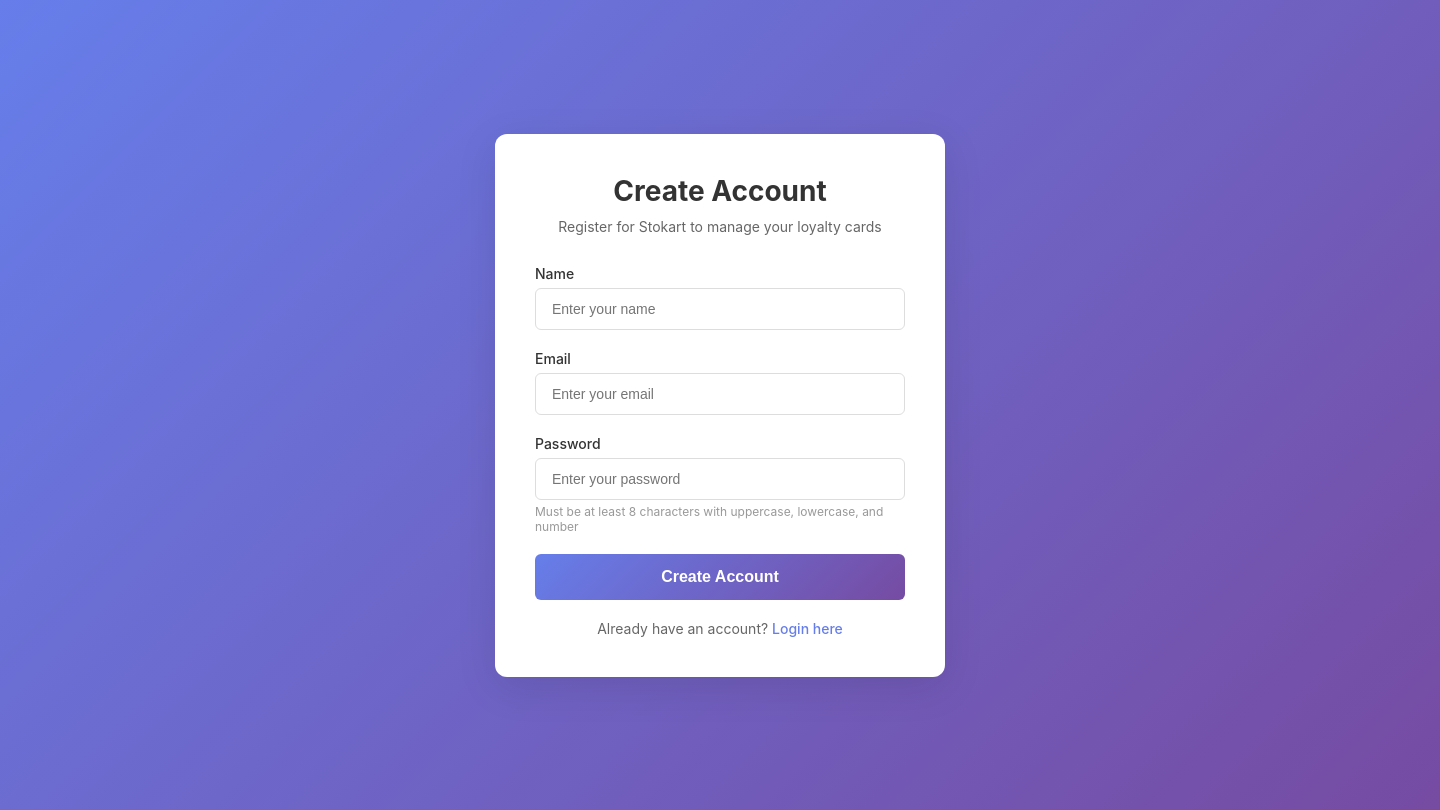
Test: RegisterView › Form Submission › should display API error for duplicate email (409)
Type "John Doe" into the field with id "name" at [720, 308], box [535,288,905,330]
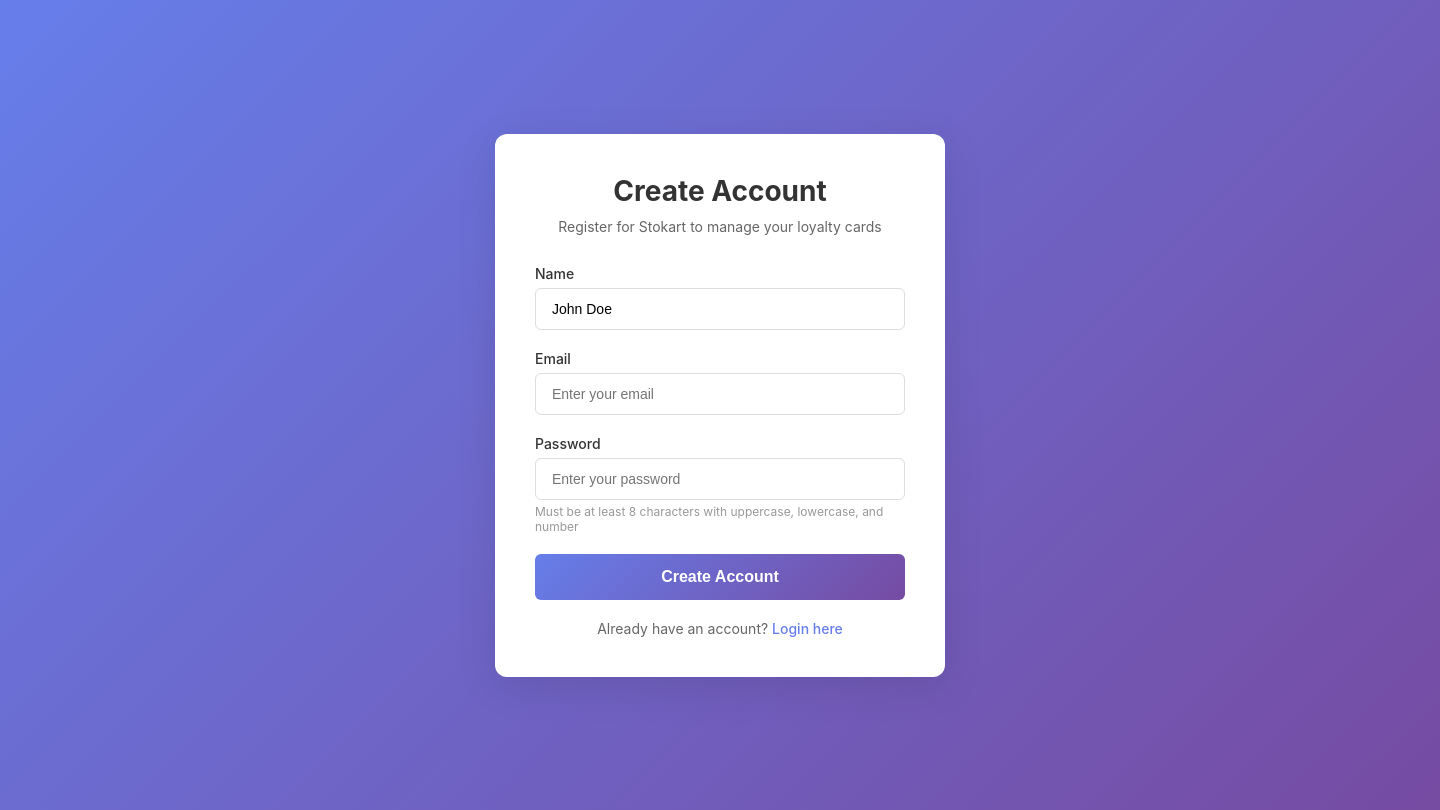
Type "existing@example.com" into the field with id "email" at [720, 394], box [535,372,905,414]
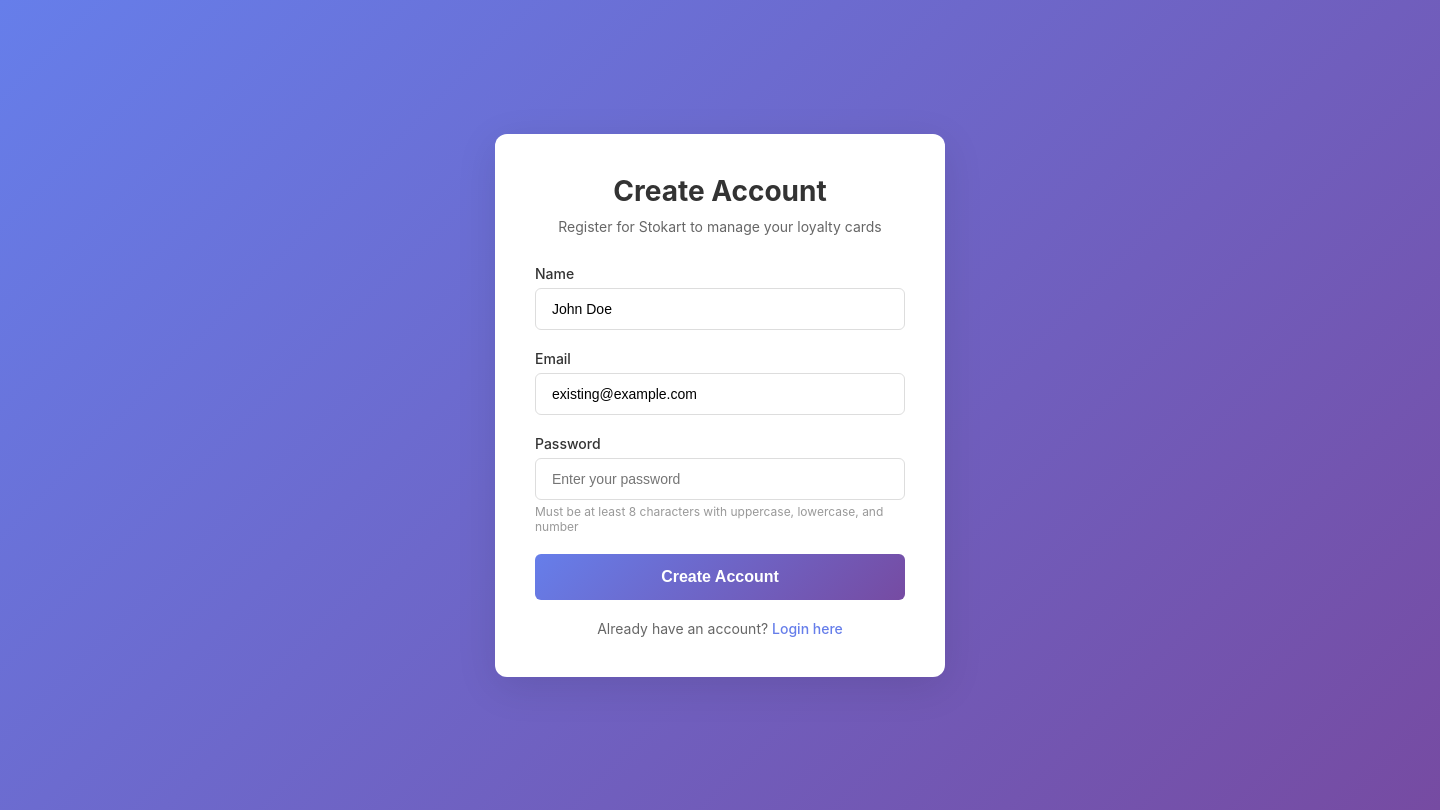
Type "SecurePass123" into the password field labelled "Password" at [720, 478], box [535,458,905,500]
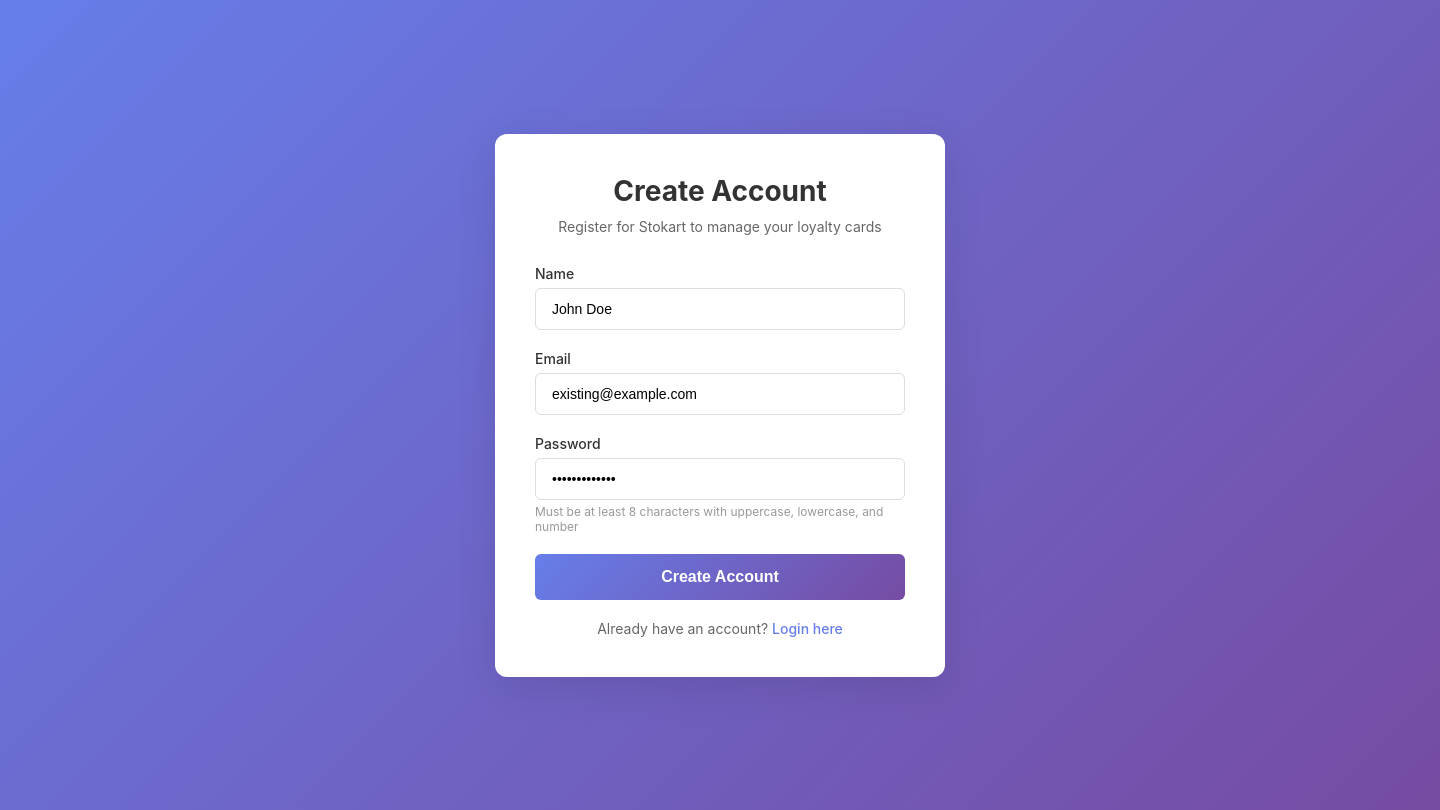
Submit the form, box [535,264,905,600]
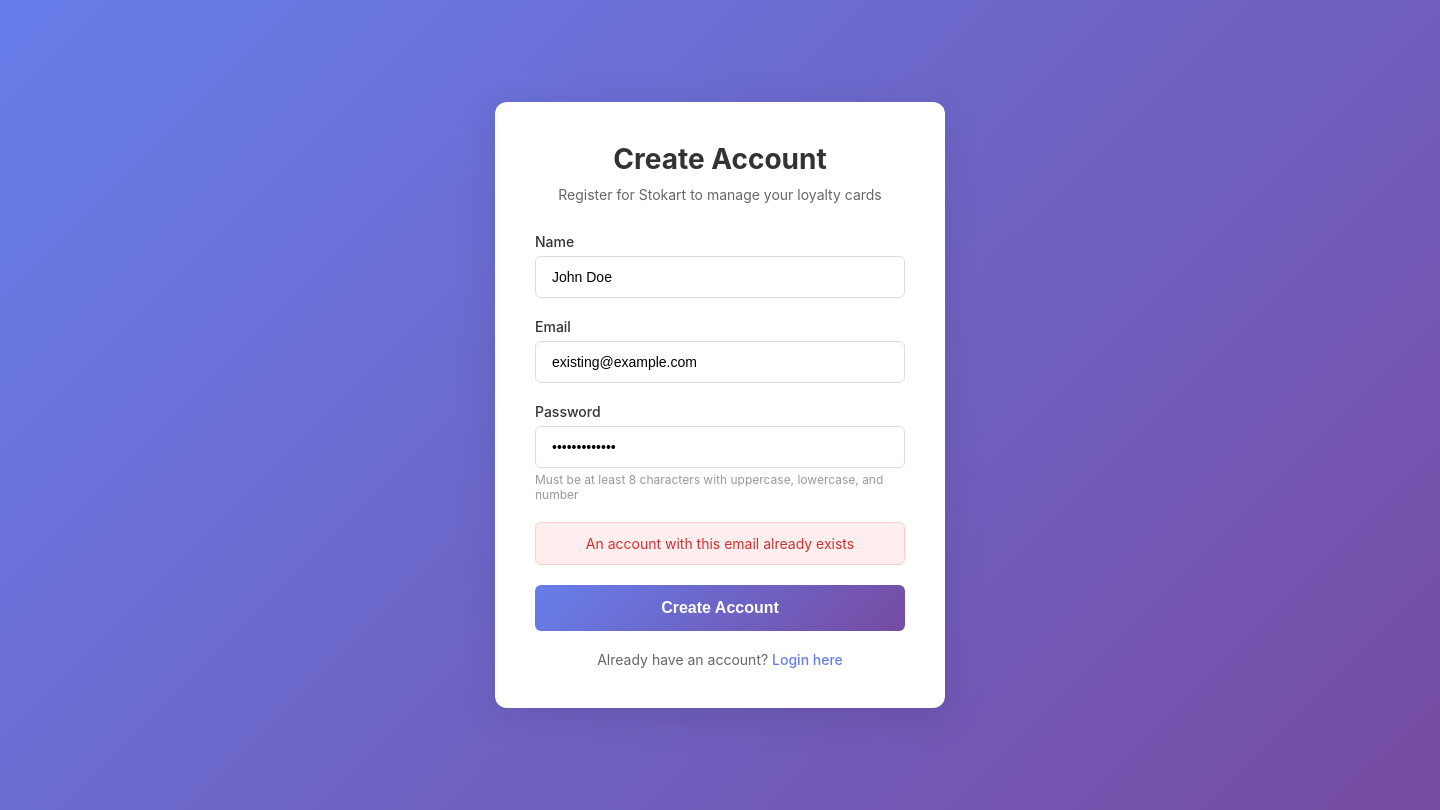
Check: the text "An account with this email already exists" is shown, box [535,522,905,565]
